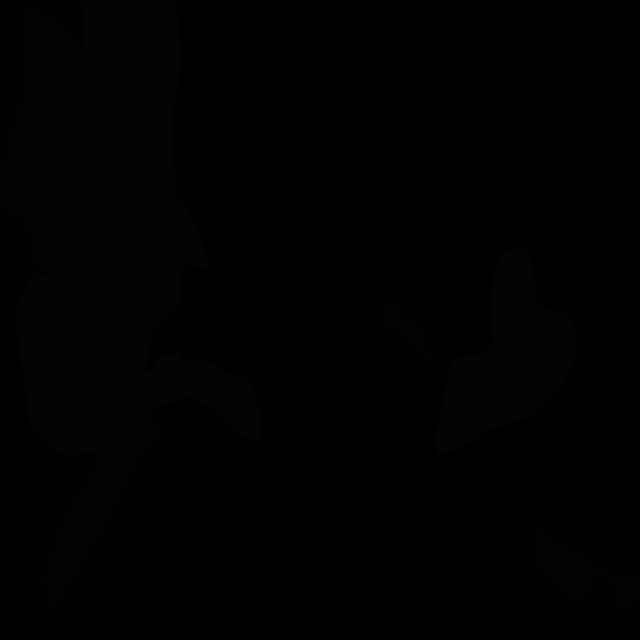cardboard: (0, 1, 163, 311), (41, 413, 162, 611), (533, 524, 640, 615), (378, 301, 435, 360)
rigid_plastic: (254, 173, 310, 272)
soft_plastic: (16, 0, 262, 456), (436, 249, 578, 455)
